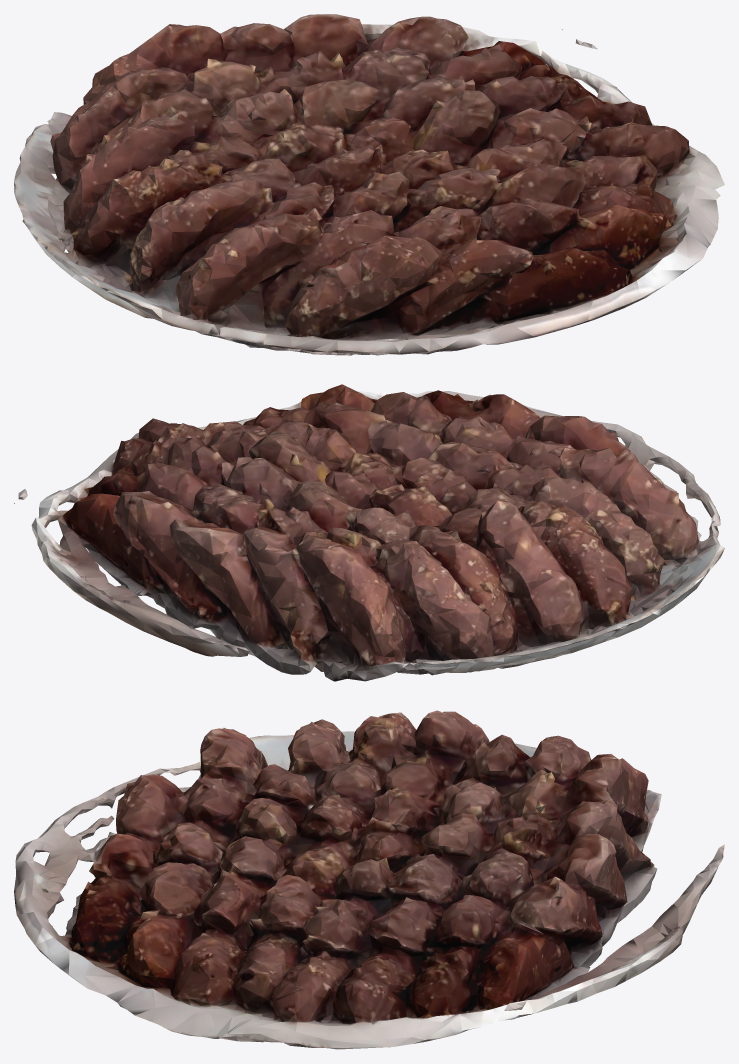
Rendered from 3DModel_LowPoly.obj.
3 renders of one model, top to bottom at view 1: azimuth 30°, elevation 25°; view 2: azimuth 150°, elevation 25°; view 3: azimuth 270°, elevation 25°, orthographic. The views are drawn at different scales.
Visible parts, largest first — view 1: 3DModel_LowPoly; view 2: 3DModel_LowPoly; view 3: 3DModel_LowPoly.
Part boxes in pixels (box(x1,y1,x2,y2)): 3DModel_LowPoly: box(14, 14, 724, 355); 3DModel_LowPoly: box(14, 384, 724, 681); 3DModel_LowPoly: box(14, 710, 724, 1049).
Bounding box in the file's own units: 1.95 × 0.4692 × 1.99.
Materials: 1 (1 with a texture image).
